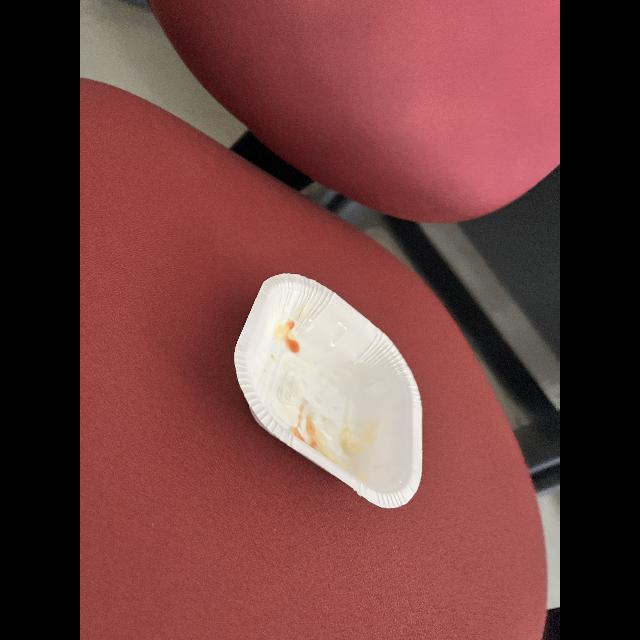cardboard_bowl: (208, 262, 466, 516)
